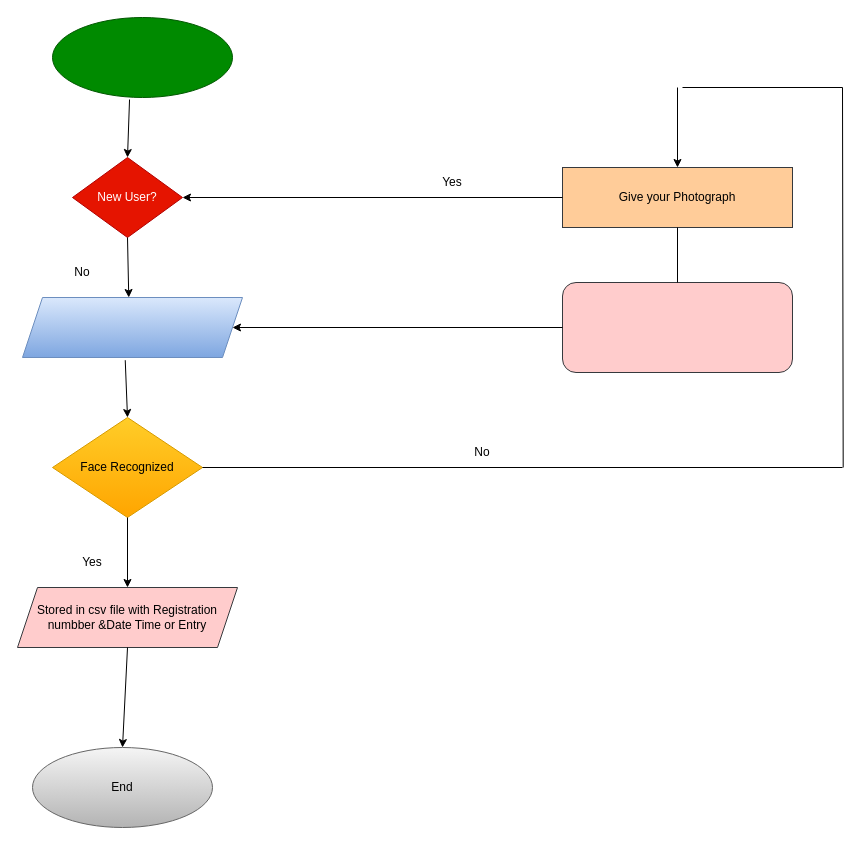
Some shapes in this 862 by 845 pixel diagram are drawn without their labels. The centre of each missing label's shape, as x and y in pixels:
"Recognize the face" belongs at pixel 132 327.
"Start" belongs at pixel 142 57.
"Store the face data in folder on your name" belongs at pixel 677 327.
